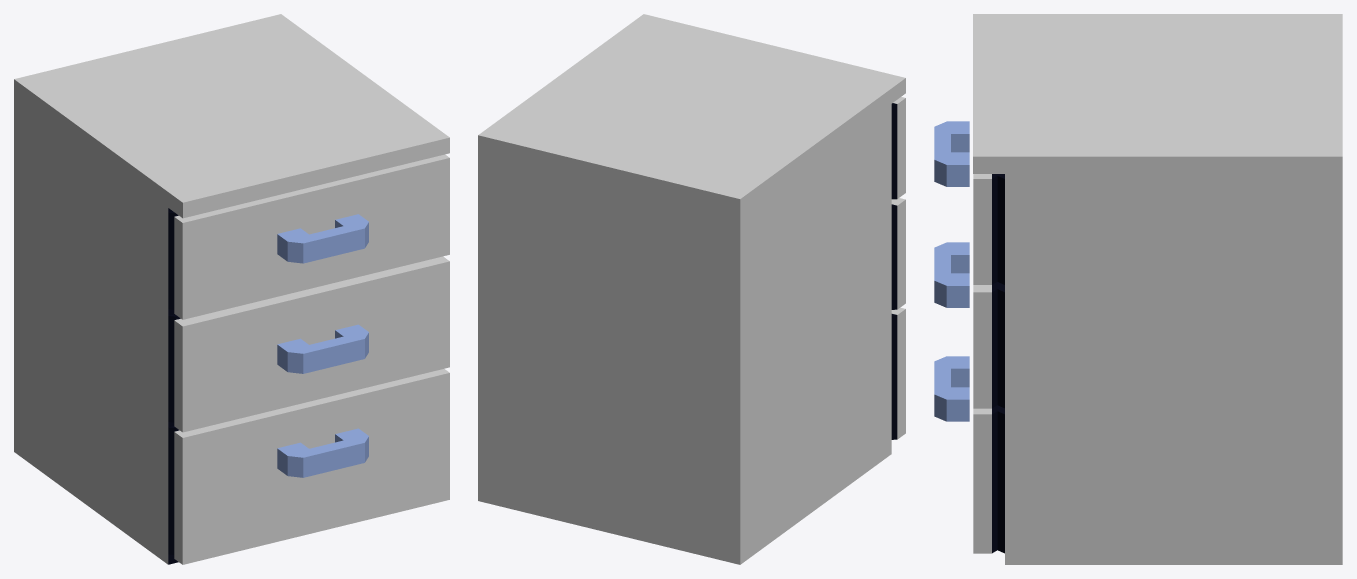
Rendered from drawers.FBX.
The picture shows the model from 3 angles, left to right: view 1: azimuth 30°, elevation 25°; view 2: azimuth 150°, elevation 25°; view 3: azimuth 270°, elevation 25°; orthographic projection. The views are drawn at different scales.
Visible parts, largest first — view 1: Box005; view 2: Box005; view 3: Box005.
Boxes of the visible parts, <box> form: Box005: <box>14,14,449,564</box>; Box005: <box>478,14,905,564</box>; Box005: <box>934,14,1342,564</box>.
Size of the model in its own units: 90 by 120 by 109.
